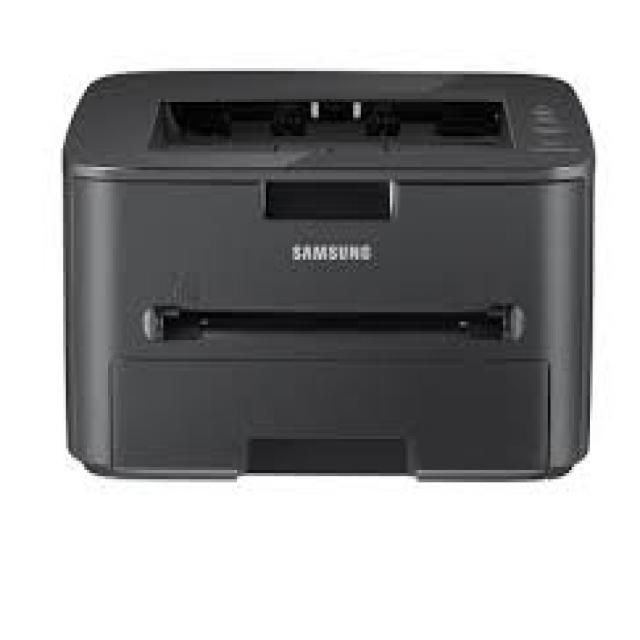printer: (55, 65, 602, 492)
